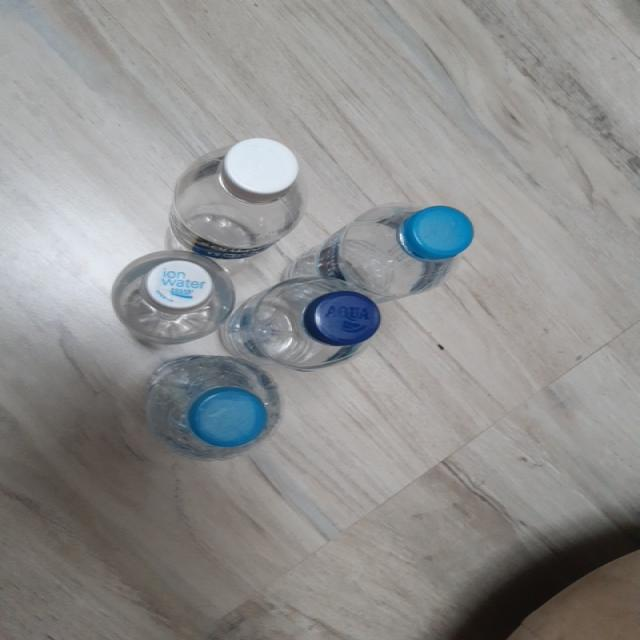PET Bottle: (146, 92, 322, 268), (120, 337, 306, 473), (343, 198, 501, 307), (82, 247, 247, 351), (252, 269, 390, 391)
